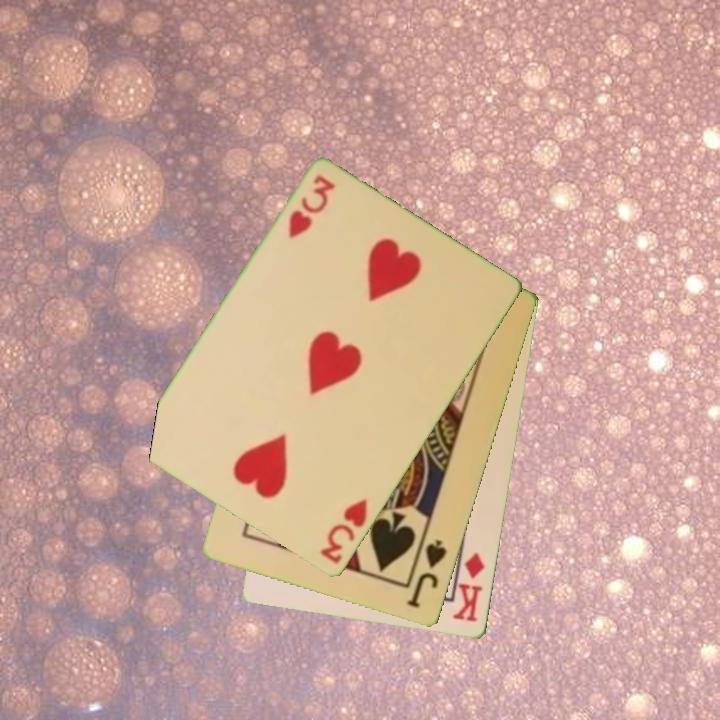3h: (317, 495, 371, 567), (285, 171, 339, 243)
Js: (404, 536, 450, 611)
Kd: (450, 549, 489, 625)
